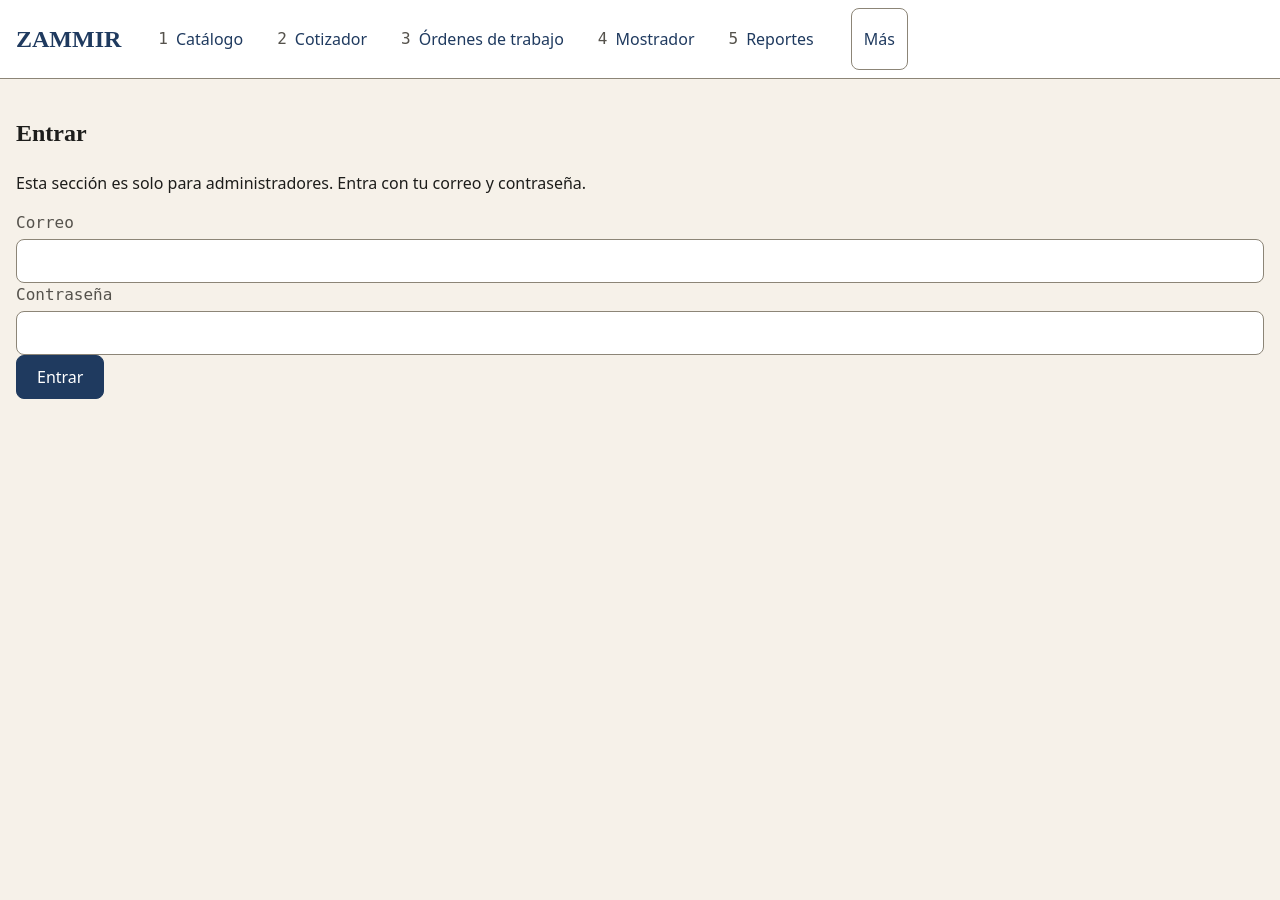
Test: pantalla de bitácora › muestra persona, tablet, fecha en hora de México, acción y valores anterior y nuevo
Type "a@ejemplo.invalid" into the field labelled "Correo" at (640, 261), box [16, 239, 1264, 283]
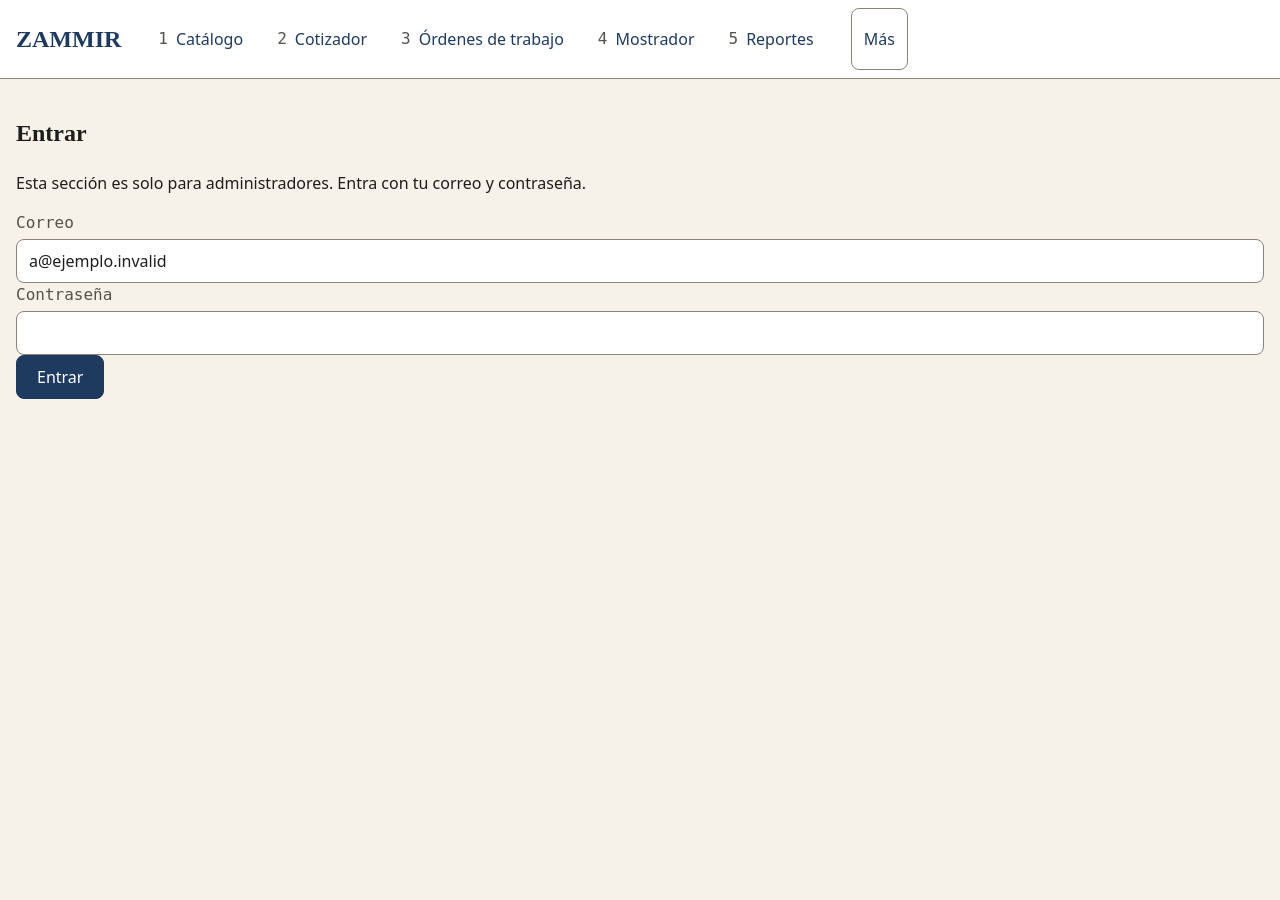
Type "clave-de-prueba-1" into the password field labelled "Contraseña" at (640, 333), box [16, 311, 1264, 355]
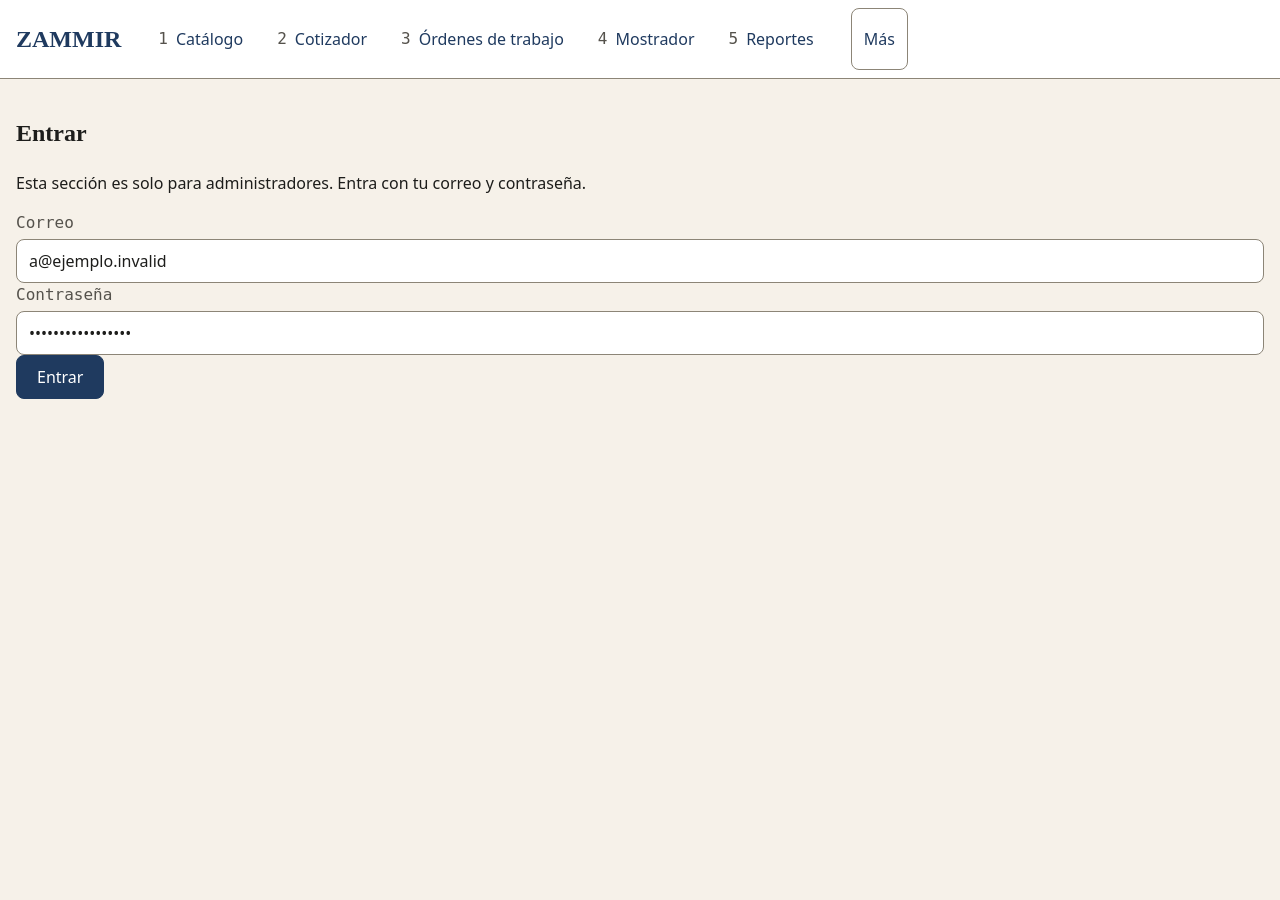
Click the button "Entrar" at (60, 377), box [16, 355, 104, 399]
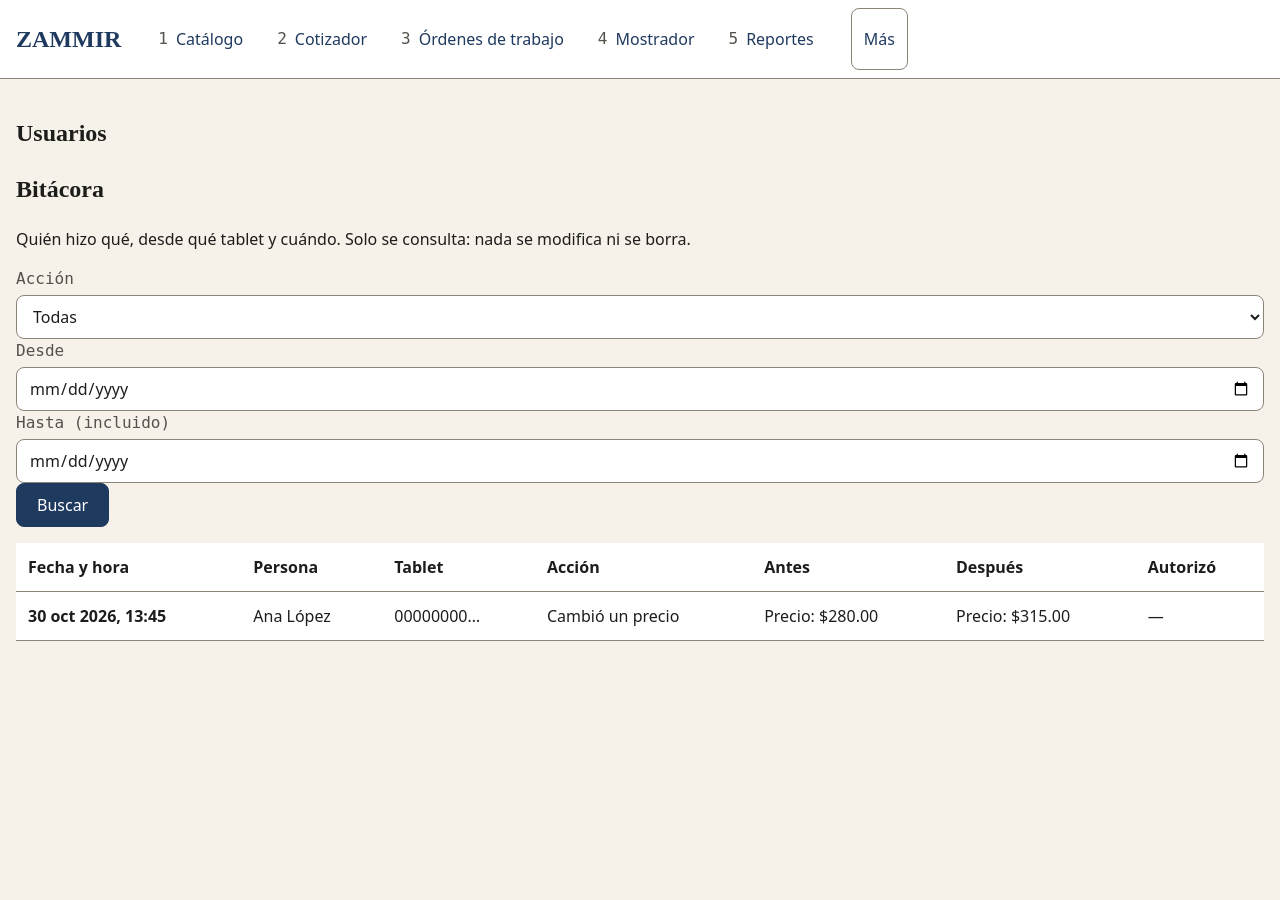
Check: the column heading "30 oct 2026, 13:45" is shown, box [16, 591, 241, 640]
Check: the text "Ana López" is shown, box [241, 591, 382, 640]
Check: the text "00000000…" is shown, box [382, 591, 535, 640]
